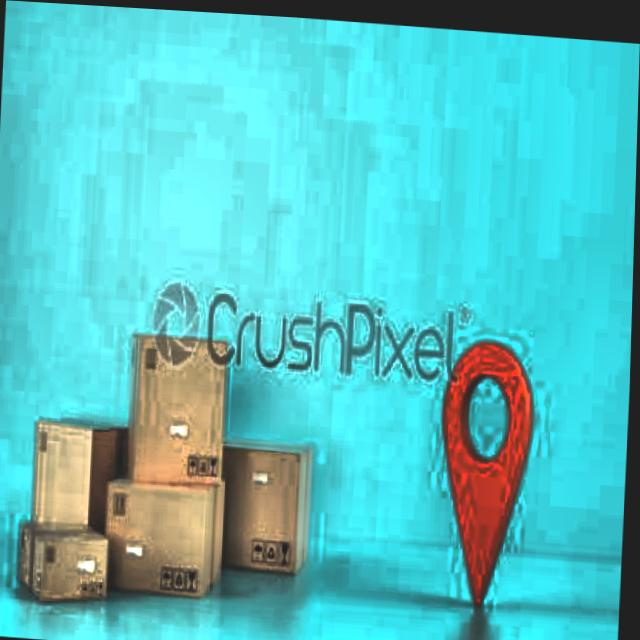Cardbox: (197, 417, 326, 579), (126, 309, 237, 494), (96, 464, 235, 596), (25, 413, 112, 540), (19, 524, 112, 608)
